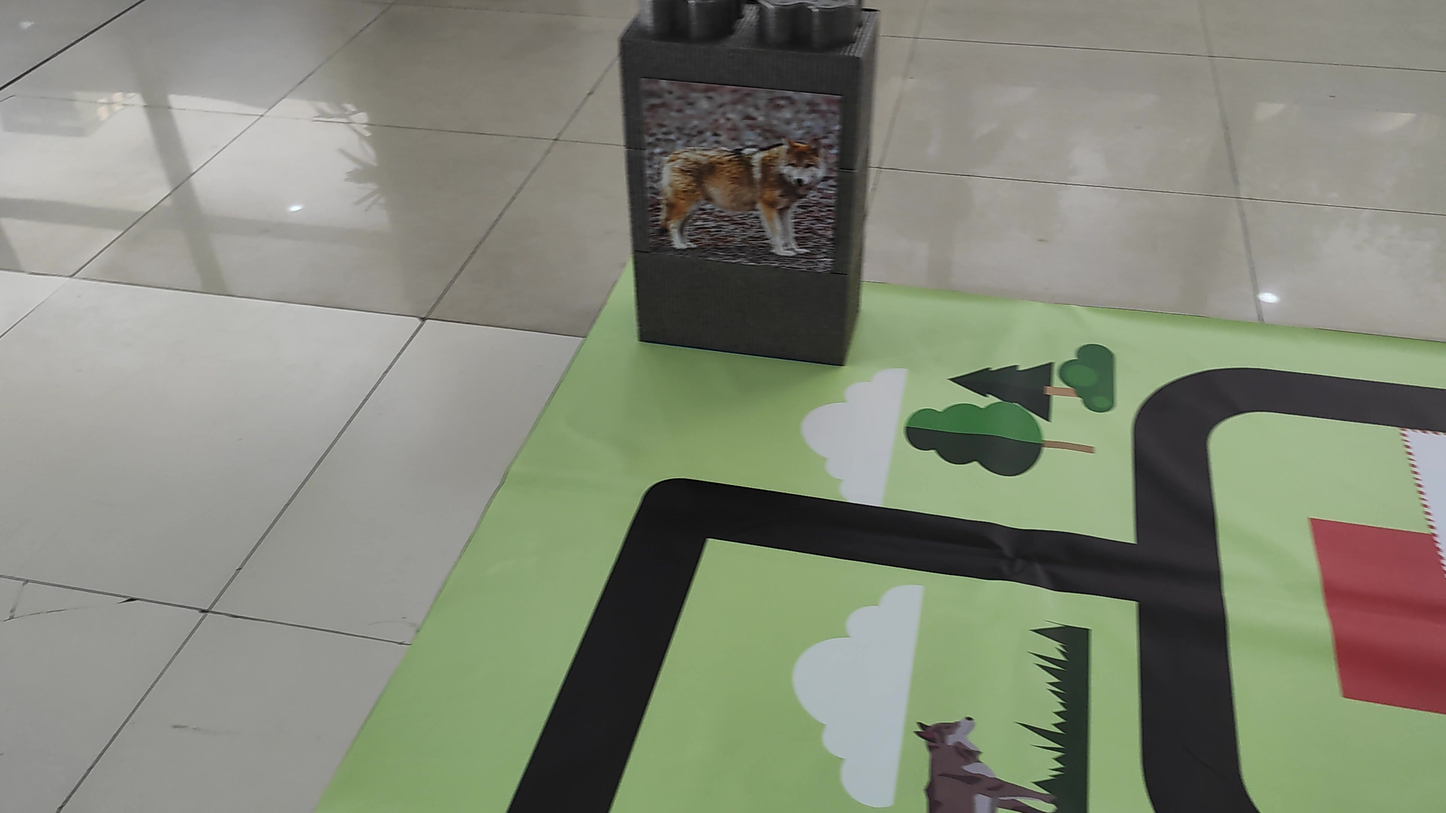wolf: (648, 79, 833, 268)
